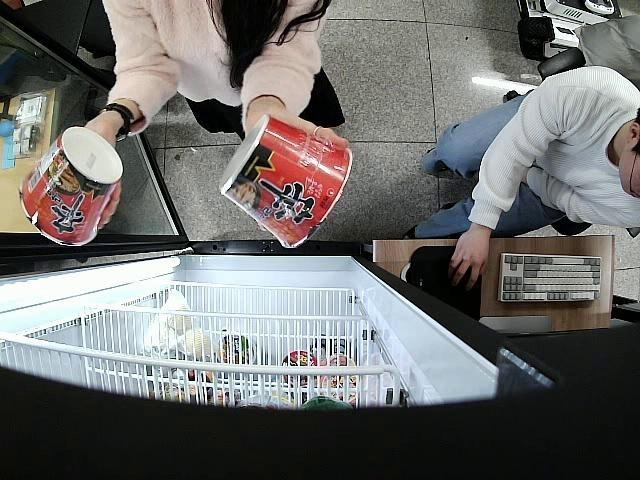01_ShinRamen_L: (216, 114, 352, 250), (18, 126, 124, 248)
